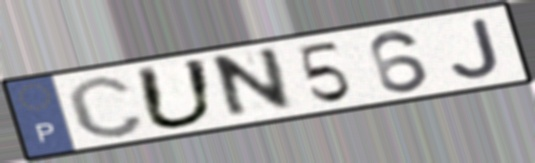5: (292, 38, 354, 104)
6: (366, 27, 432, 95)
C: (62, 73, 148, 140)
J: (447, 15, 505, 81)
N: (213, 44, 297, 124)
U: (131, 56, 221, 132)
